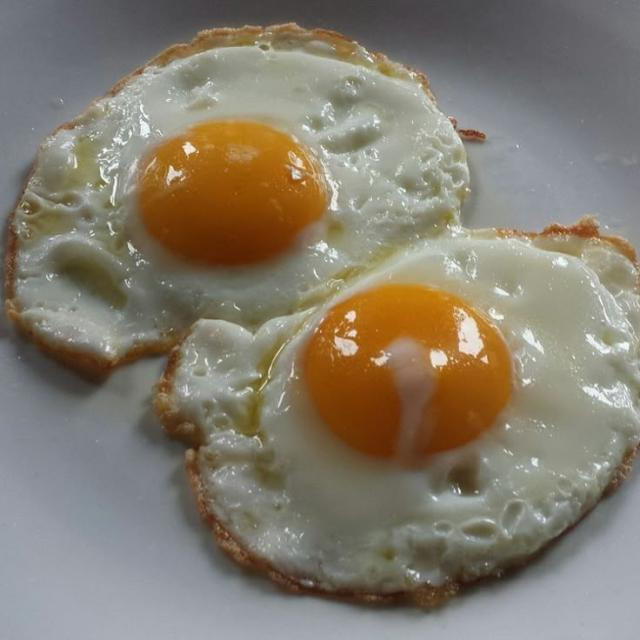fryed egg: (156, 229, 639, 603), (7, 26, 468, 366)
